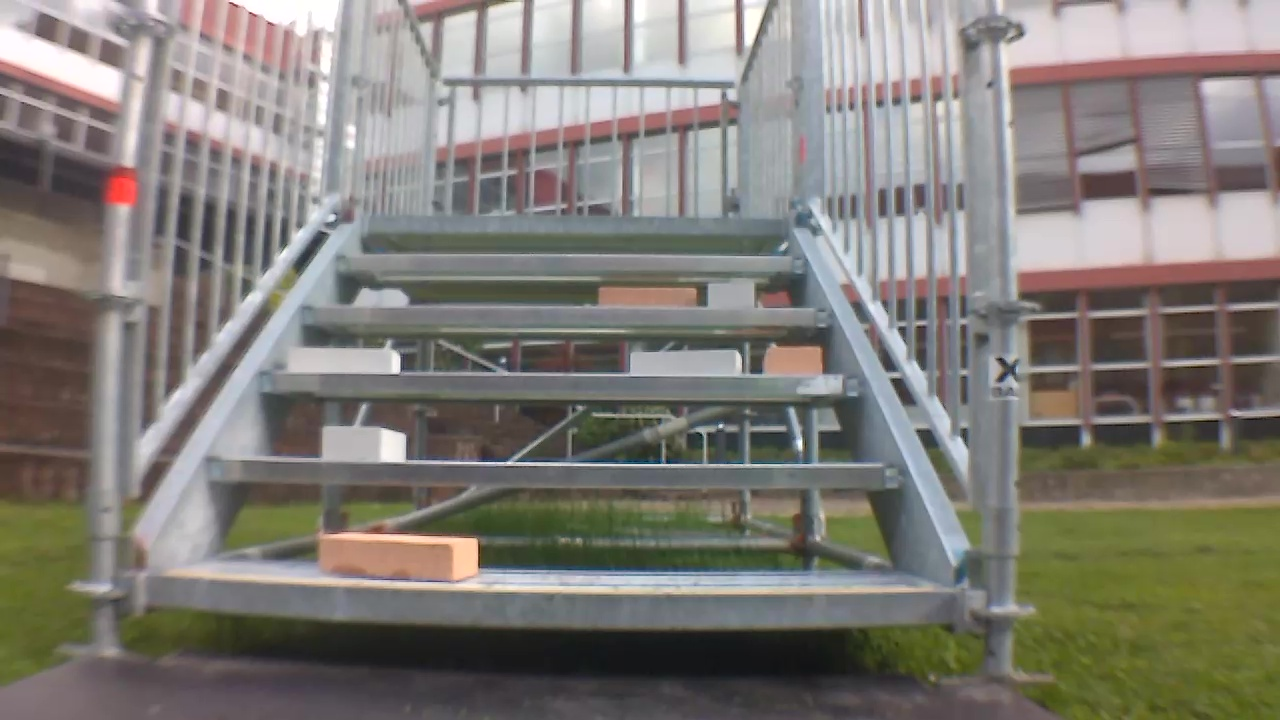brick: (319, 534, 478, 581), (289, 348, 400, 374), (322, 427, 405, 461), (630, 350, 741, 374), (599, 286, 695, 306), (767, 347, 820, 374), (709, 283, 753, 308)
edge: (149, 575, 953, 628), (206, 457, 906, 486), (258, 372, 861, 397), (302, 304, 832, 326), (365, 214, 785, 236), (337, 255, 810, 272)
stairs: (77, 5, 1057, 682)
steps: (138, 203, 958, 640)
